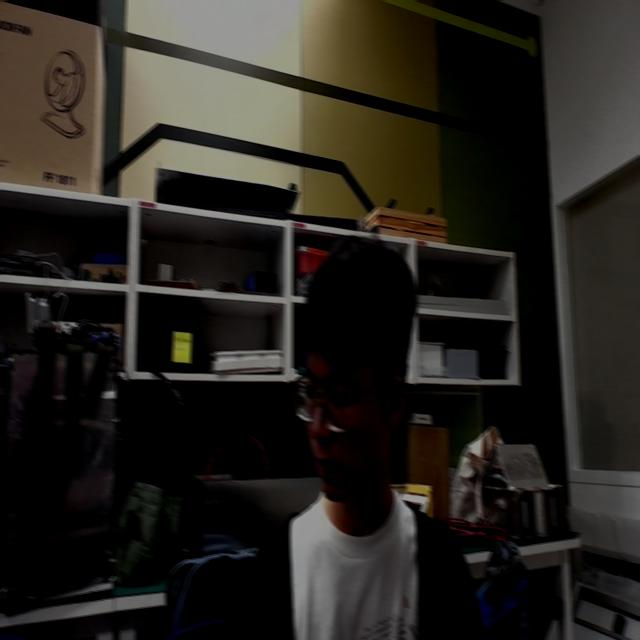Without Helmet: (280, 213, 430, 532)
